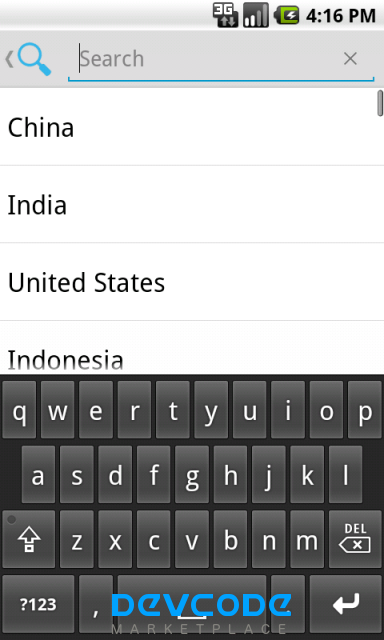searchIcon: (15, 28, 54, 82)
